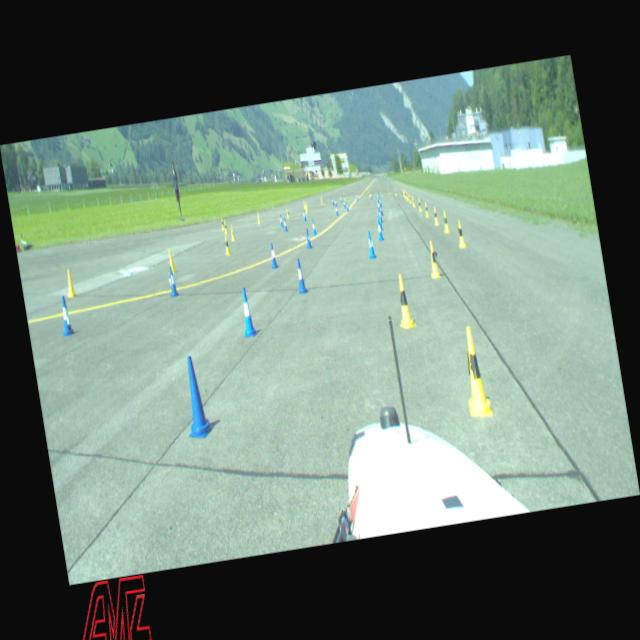blue_cone: (177, 355, 214, 439), (236, 286, 258, 338), (58, 296, 74, 336), (293, 257, 309, 294), (168, 266, 178, 298), (268, 243, 280, 269), (366, 230, 376, 258), (376, 220, 384, 242), (304, 228, 312, 249), (310, 219, 318, 236), (377, 212, 384, 230), (282, 218, 288, 232), (278, 215, 284, 227), (378, 204, 384, 216), (378, 208, 383, 222), (302, 210, 307, 221), (334, 205, 338, 216), (334, 198, 338, 207), (346, 202, 349, 212), (343, 198, 346, 208), (377, 200, 380, 210), (377, 192, 380, 202), (340, 195, 342, 203), (356, 193, 358, 200), (370, 192, 372, 199), (332, 198, 334, 205)
yellow_cone: (456, 324, 493, 418), (392, 273, 416, 330), (426, 240, 440, 280), (64, 269, 76, 297), (456, 220, 466, 248), (166, 249, 176, 273), (440, 210, 450, 233), (222, 234, 232, 256), (432, 207, 439, 226), (230, 224, 237, 242), (223, 220, 229, 234), (424, 202, 429, 218), (256, 212, 262, 224), (417, 198, 422, 211), (411, 196, 416, 207), (220, 217, 224, 230), (286, 208, 290, 218), (408, 194, 412, 204), (304, 204, 308, 214), (404, 190, 407, 199), (320, 196, 323, 204), (394, 188, 397, 196), (402, 189, 405, 197), (343, 193, 346, 200), (368, 190, 371, 197), (406, 192, 408, 200)
